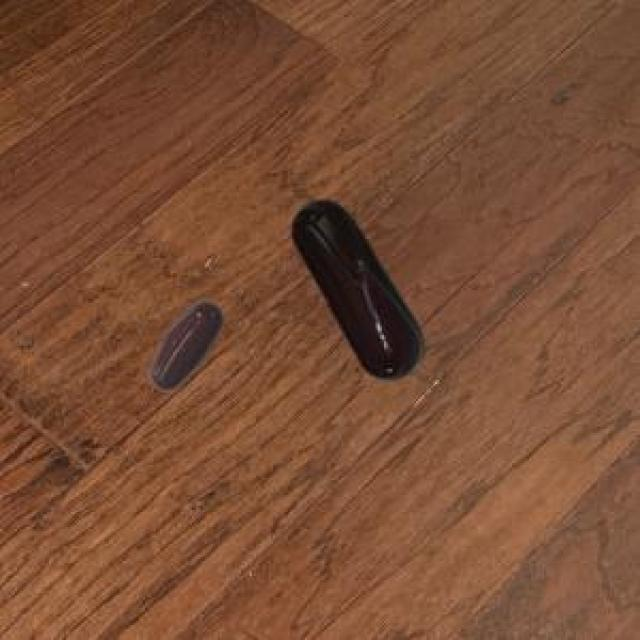DayZinc: (278, 176, 445, 394), (142, 290, 220, 405)
